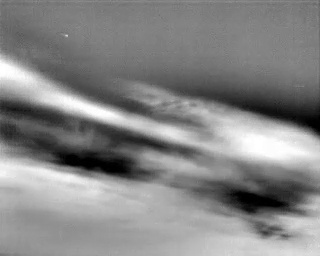BIRD: (62, 31, 70, 40)
